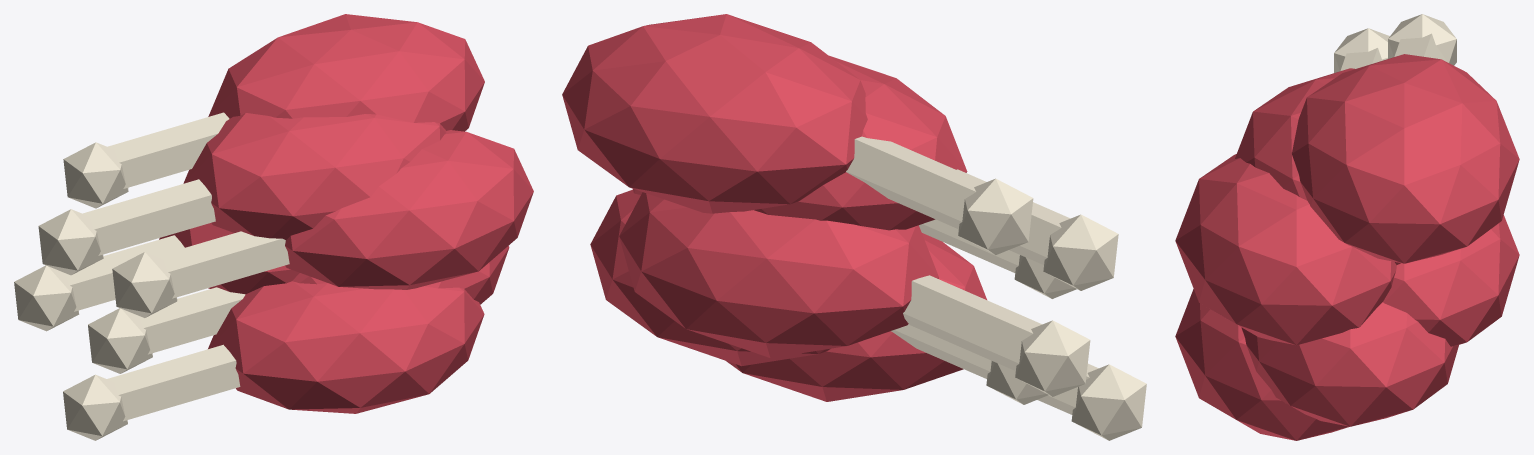
The model's file is item_022_roast_meat_l.glb.
3 renders of one model, left to right at view 1: azimuth 30°, elevation 25°; view 2: azimuth 150°, elevation 25°; view 3: azimuth 270°, elevation 25°, orthographic. The views are drawn at different scales.
Parts seen in each view (by area): view 1: item_022_roast_meat_l; view 2: item_022_roast_meat_l; view 3: item_022_roast_meat_l.
Part boxes in pixels (x1,y1,x2,y2): item_022_roast_meat_l: [14, 14, 533, 440]; item_022_roast_meat_l: [562, 14, 1146, 440]; item_022_roast_meat_l: [1175, 14, 1519, 440].
Bounding box in the file's own units: 0.6313 × 0.4338 × 0.383.
